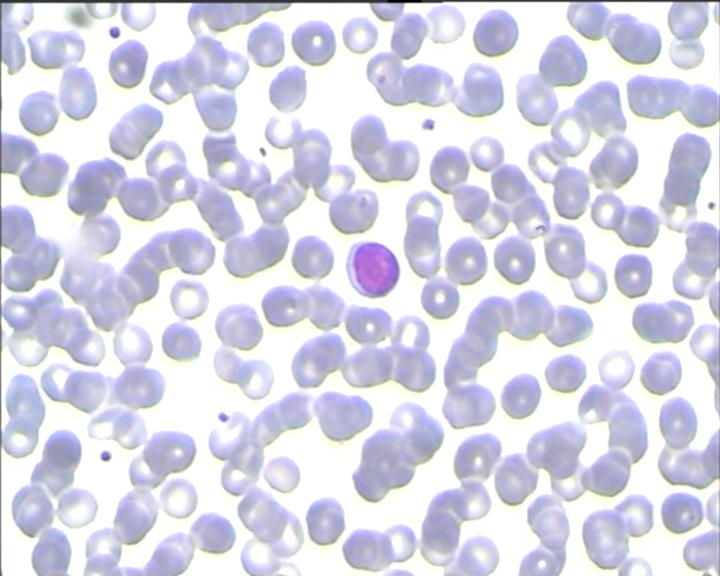lymp: (343, 238, 403, 301)
